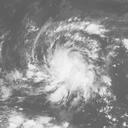cyclone: (25, 17, 104, 106)
